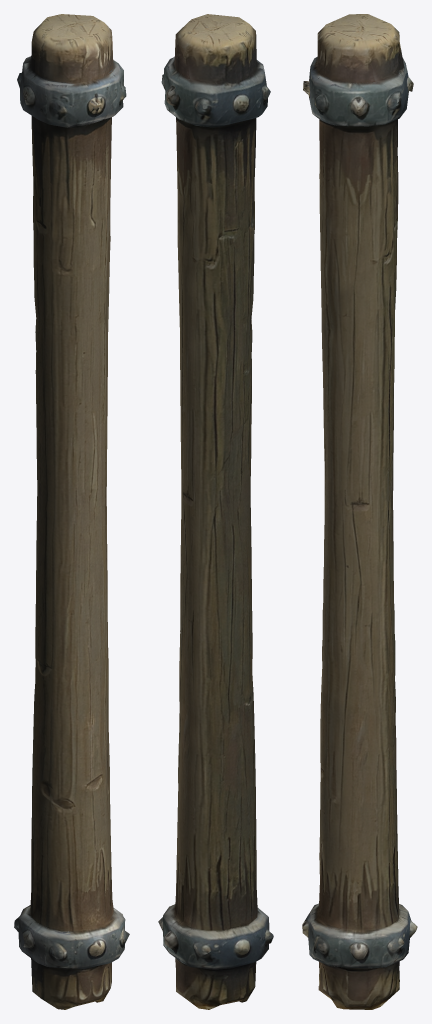
Rendered from Prop_Weapon_Quarterstaff.fbx.
3 renders of one model, left to right at view 1: azimuth 30°, elevation 25°; view 2: azimuth 210°, elevation 25°; view 3: azimuth 270°, elevation 25°, orthographic.
Parts seen in each view (by area): view 1: texture_mapping; view 2: texture_mapping; view 3: texture_mapping.
Part boxes in pixels (x1=…): texture_mapping: x1=14, y1=14, x2=129, y2=1009; texture_mapping: x1=158, y1=14, x2=273, y2=1009; texture_mapping: x1=302, y1=14, x2=417, y2=1009.
Size of the model in its own units: 0.1056 by 0.1075 by 0.9997.
Materials: 1 (1 with a texture image).
